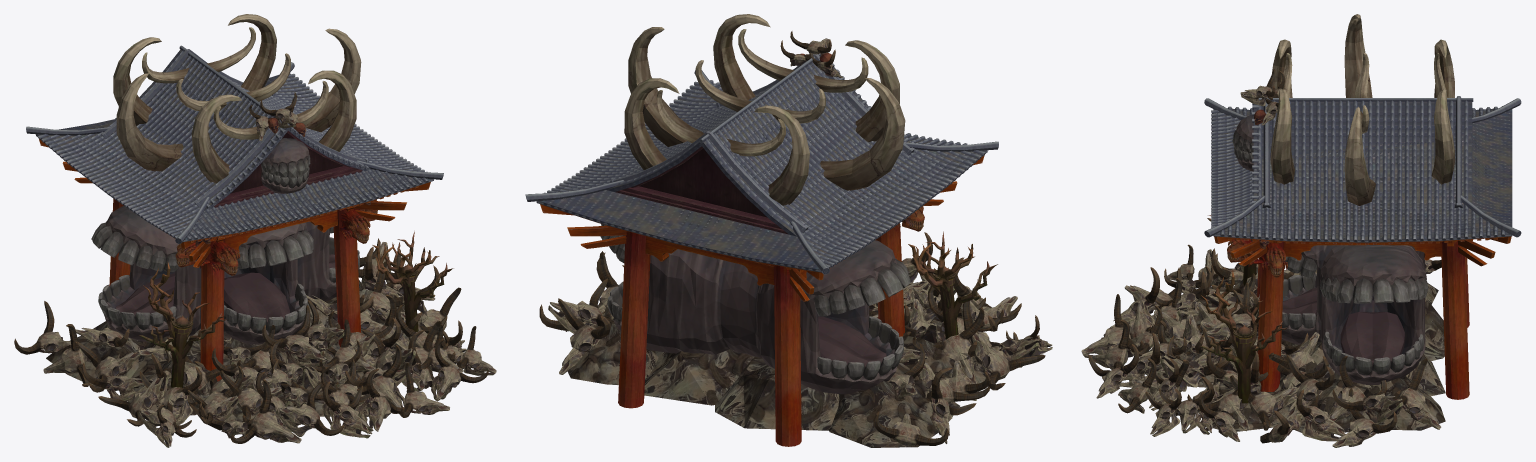
File: Malevolent_shrine_webp_draco.glb
3 renders of one model, left to right at view 1: azimuth 30°, elevation 25°; view 2: azimuth 150°, elevation 25°; view 3: azimuth 270°, elevation 25°, orthographic. The views are drawn at different scales.
Parts seen in each view (by area): view 1: SM_SQ_SuperCursedEnergy_CP_020_MalevolentShrine 2, SM_SQ_SuperCursedEnergy_CP_020_MalevolentShrine 1, SM_SQ_SuperCursedEnergy_CP_020_MalevolentShrine, SM_SQ_SuperCursedEnergy_CP_020_MalevolentShrine 3, SM_SQ_SuperCursedEnergy_CP_020_MalevolentShrine 4; view 2: SM_SQ_SuperCursedEnergy_CP_020_MalevolentShrine 2, SM_SQ_SuperCursedEnergy_CP_020_MalevolentShrine 1, SM_SQ_SuperCursedEnergy_CP_020_MalevolentShrine, SM_SQ_SuperCursedEnergy_CP_020_MalevolentShrine 4, SM_SQ_SuperCursedEnergy_CP_020_MalevolentShrine 3; view 3: SM_SQ_SuperCursedEnergy_CP_020_MalevolentShrine 2, SM_SQ_SuperCursedEnergy_CP_020_MalevolentShrine 1, SM_SQ_SuperCursedEnergy_CP_020_MalevolentShrine, SM_SQ_SuperCursedEnergy_CP_020_MalevolentShrine 4, SM_SQ_SuperCursedEnergy_CP_020_MalevolentShrine 3.
Part boxes in pixels (x1=…): SM_SQ_SuperCursedEnergy_CP_020_MalevolentShrine 2: x1=14, y1=14, x2=496, y2=447; SM_SQ_SuperCursedEnergy_CP_020_MalevolentShrine 1: x1=26, y1=45, x2=443, y2=267; SM_SQ_SuperCursedEnergy_CP_020_MalevolentShrine: x1=91, y1=138, x2=359, y2=344; SM_SQ_SuperCursedEnergy_CP_020_MalevolentShrine 3: x1=138, y1=231, x2=453, y2=387; SM_SQ_SuperCursedEnergy_CP_020_MalevolentShrine 4: x1=46, y1=279, x2=409, y2=426; SM_SQ_SuperCursedEnergy_CP_020_MalevolentShrine 2: x1=539, y1=14, x2=1052, y2=446; SM_SQ_SuperCursedEnergy_CP_020_MalevolentShrine 1: x1=525, y1=53, x2=998, y2=301; SM_SQ_SuperCursedEnergy_CP_020_MalevolentShrine: x1=600, y1=224, x2=910, y2=394; SM_SQ_SuperCursedEnergy_CP_020_MalevolentShrine 4: x1=567, y1=305, x2=990, y2=447; SM_SQ_SuperCursedEnergy_CP_020_MalevolentShrine 3: x1=908, y1=231, x2=997, y2=339; SM_SQ_SuperCursedEnergy_CP_020_MalevolentShrine 2: x1=1081, y1=14, x2=1469, y2=447; SM_SQ_SuperCursedEnergy_CP_020_MalevolentShrine 1: x1=1204, y1=96, x2=1521, y2=266; SM_SQ_SuperCursedEnergy_CP_020_MalevolentShrine: x1=1232, y1=115, x2=1428, y2=384; SM_SQ_SuperCursedEnergy_CP_020_MalevolentShrine 4: x1=1145, y1=274, x2=1445, y2=432; SM_SQ_SuperCursedEnergy_CP_020_MalevolentShrine 3: x1=1200, y1=215, x2=1287, y2=403.
Size of the model in its own units: 18.13 by 13.59 by 17.74.
Materials: 5 (5 with a texture image).
